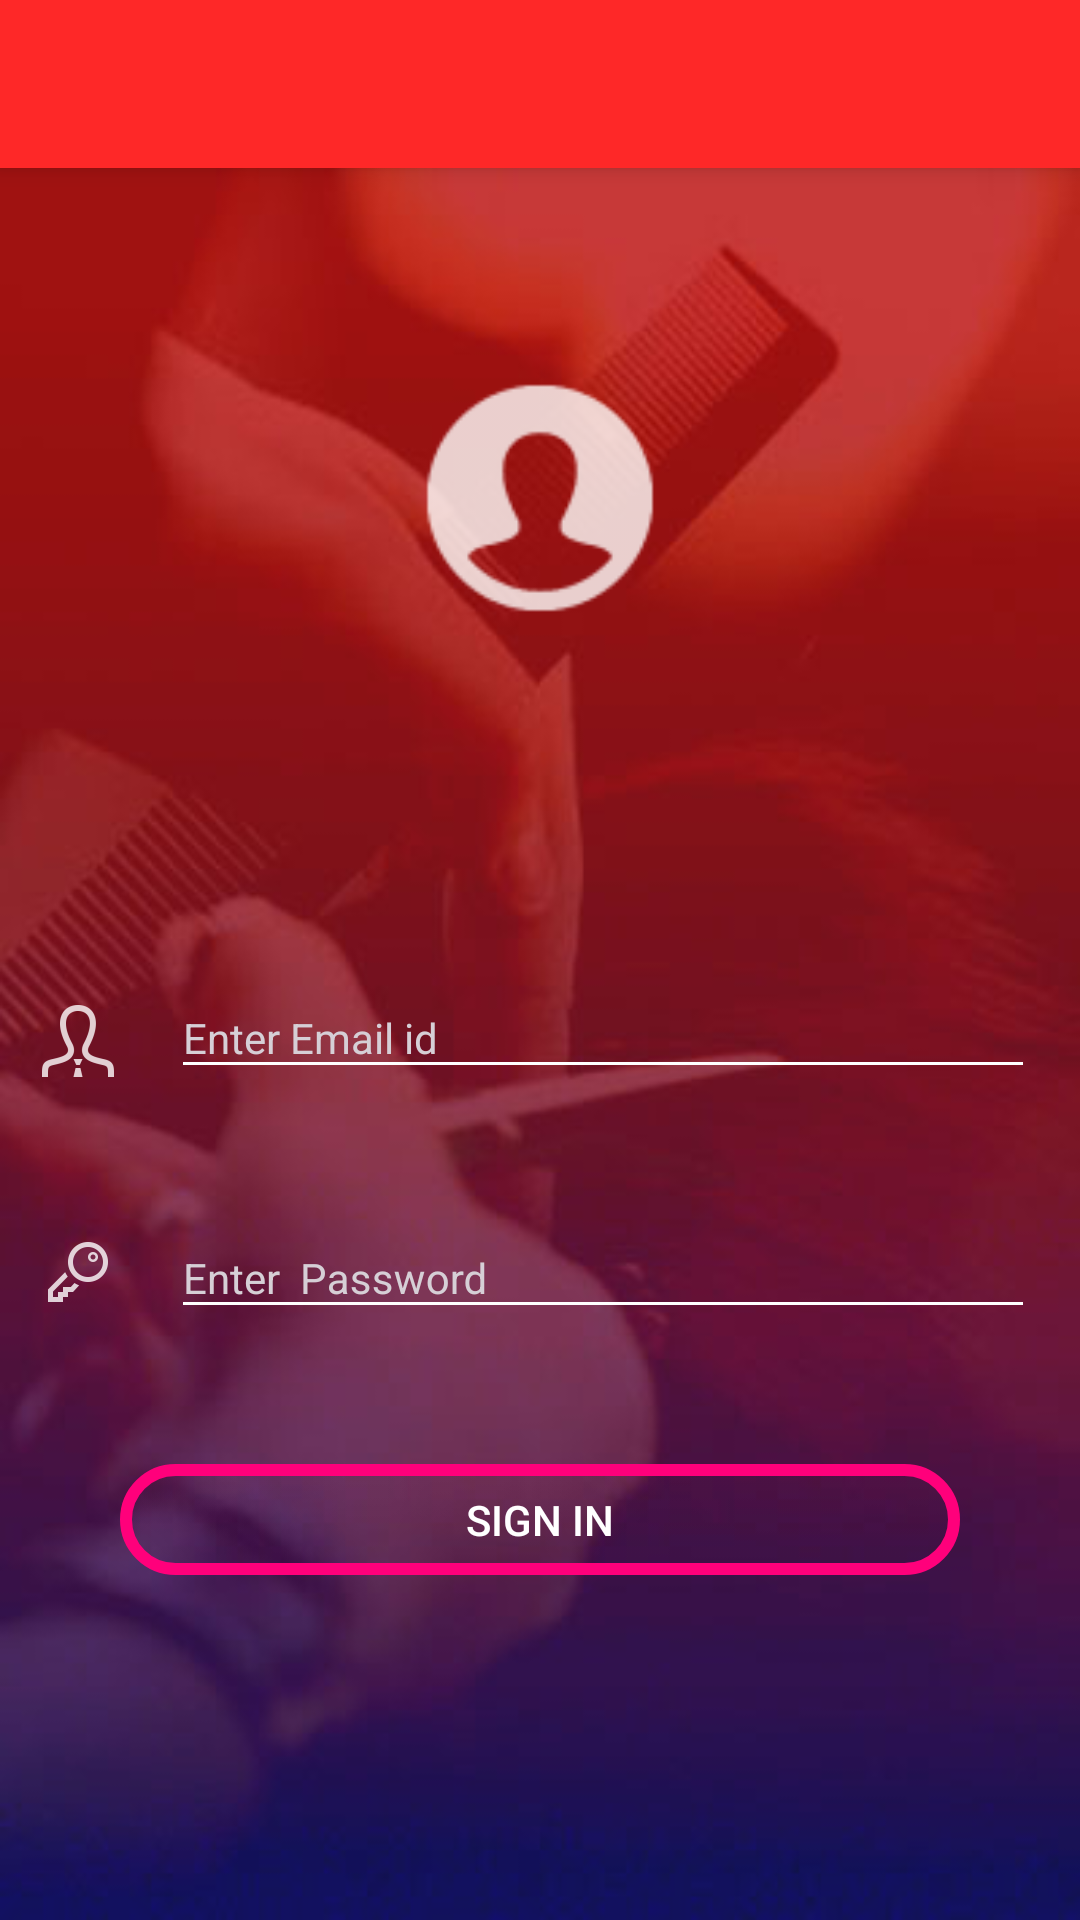

Named icons in this screenshot (1080×1920) and their bounding boxes, (x1, y1, x2, y2):
user: (30, 993, 114, 1089)
userimage: (390, 348, 690, 648)
